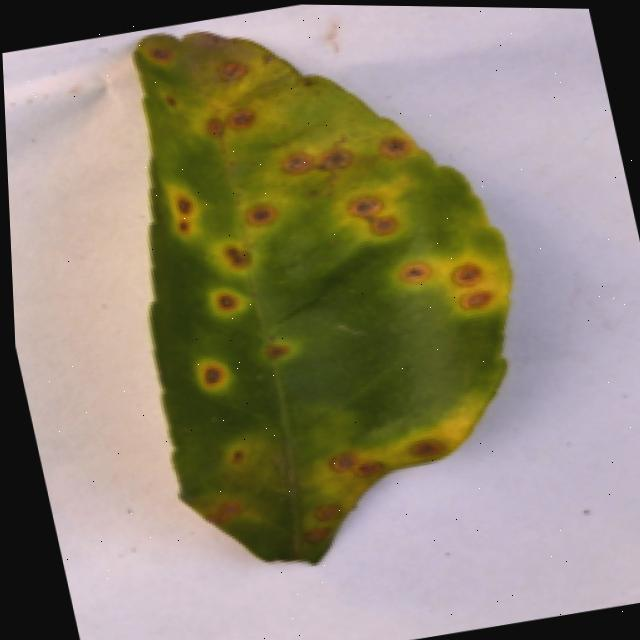canker: (136, 36, 511, 558), (139, 33, 507, 314), (298, 404, 481, 563), (213, 243, 255, 322), (166, 184, 213, 243), (201, 358, 239, 396), (263, 334, 290, 358), (228, 439, 250, 466)
